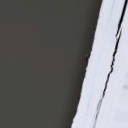crackTip: (92, 1, 127, 128)
